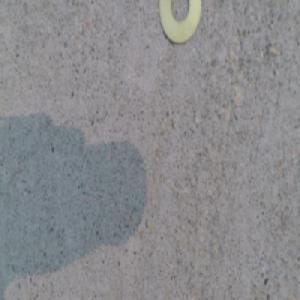Washer: (160, 0, 203, 46)
